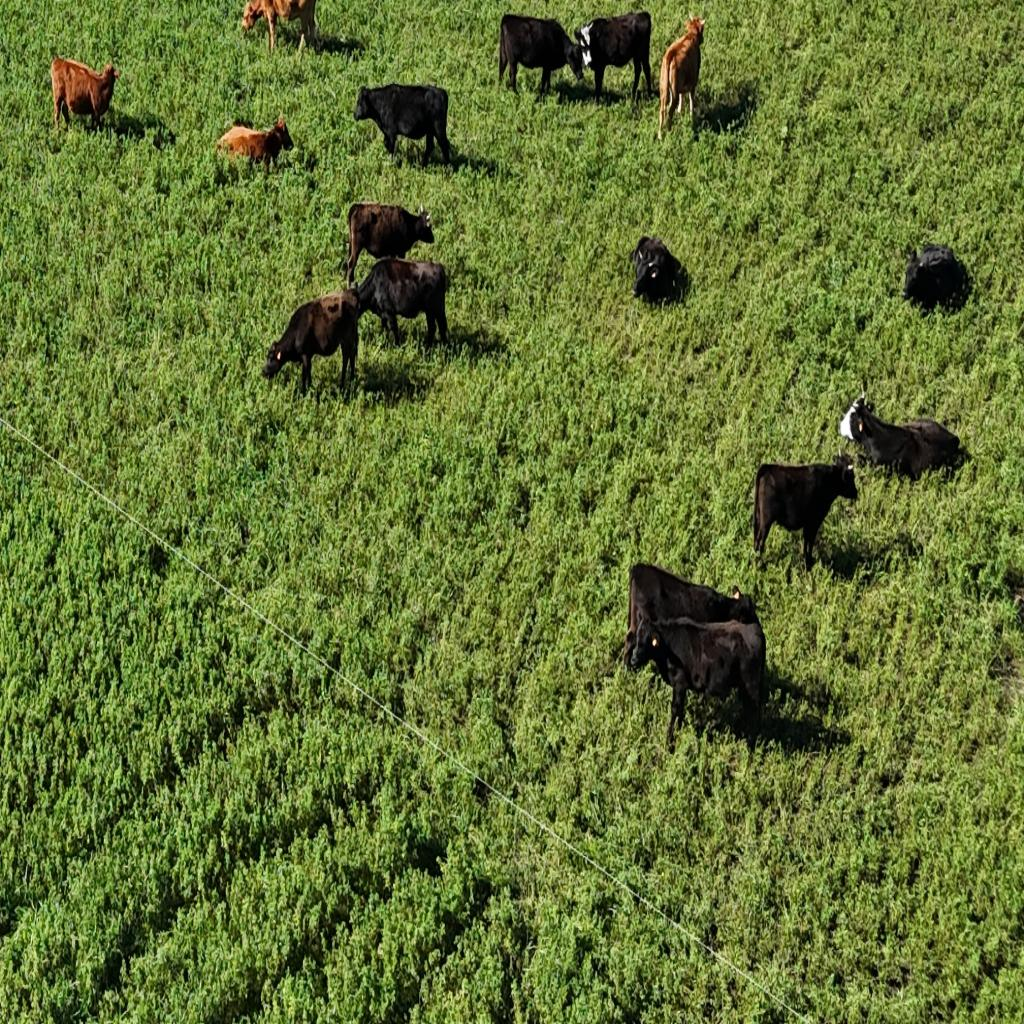cow: (604, 610, 820, 766), (624, 531, 770, 688), (753, 457, 858, 573), (260, 287, 364, 400), (350, 76, 476, 168), (840, 388, 960, 484), (348, 258, 448, 352), (893, 233, 998, 320), (615, 224, 709, 320), (342, 197, 436, 286), (570, 8, 651, 103), (501, 12, 589, 98), (658, 10, 706, 142), (50, 55, 120, 137), (214, 111, 296, 174), (241, 0, 319, 57)
